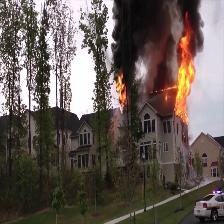fire: (174, 43, 193, 117)
smoke: (115, 1, 167, 68), (181, 0, 203, 34)
